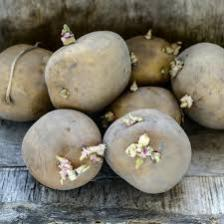Sprouted potato: (91, 98, 198, 204), (38, 20, 136, 117), (19, 105, 110, 196), (98, 75, 191, 138), (0, 37, 66, 125), (167, 39, 224, 132), (107, 23, 187, 88)
